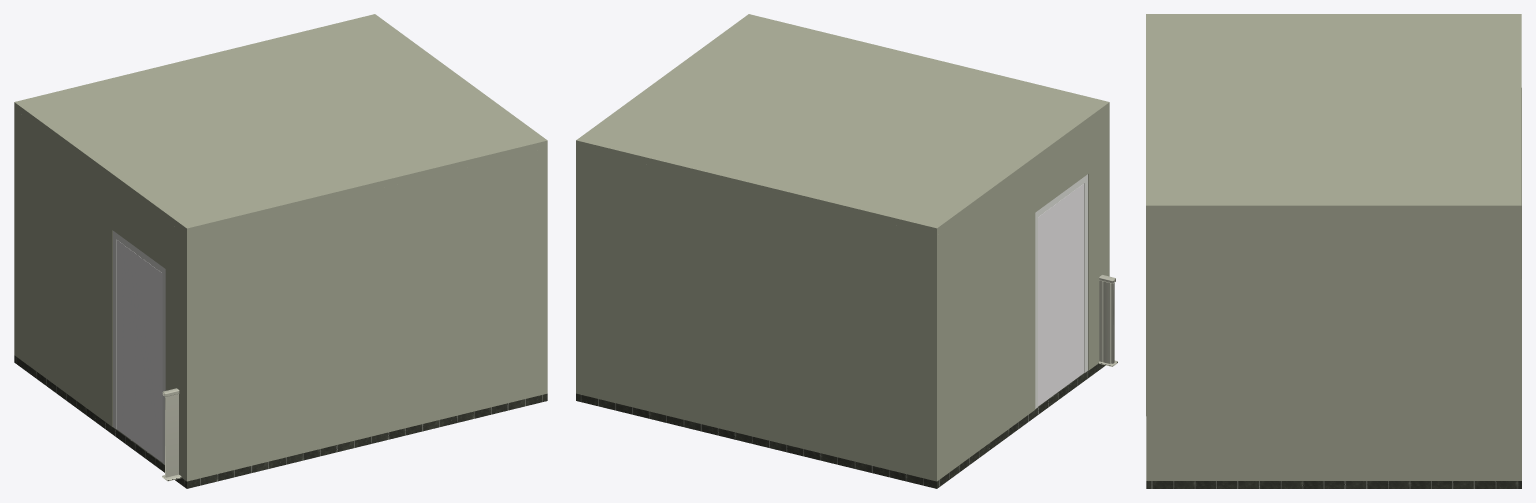
Rendered from FloorPlan427_physics.fbx.
The picture shows the model from 3 angles, left to right: view 1: azimuth 30°, elevation 25°; view 2: azimuth 150°, elevation 25°; view 3: azimuth 270°, elevation 25°; orthographic projection. The views are drawn at different scales.
Visible parts, largest first — view 1: FP427:Walls, FP427:Ceiling, FP427:polySurface178, FP427:Floor, FP427:polySurface180, FP427:FloorPlan426wall; view 2: FP427:Walls, FP427:Ceiling, FP427:polySurface178, FP427:Floor, FP427:polySurface180, FP427:FloorPlan426wall; view 3: FP427:Walls, FP427:Ceiling, FP427:Floor.
Boxes of the visible parts, x1,y1,x2,y2 form: FP427:Walls: (14, 110, 547, 481); FP427:Ceiling: (14, 14, 547, 235); FP427:polySurface178: (116, 240, 162, 462); FP427:Floor: (14, 355, 547, 488); FP427:polySurface180: (113, 231, 165, 464); FP427:FloorPlan426wall: (162, 388, 181, 481); FP427:Walls: (576, 110, 1109, 481); FP427:Ceiling: (576, 14, 1109, 235); FP427:polySurface178: (1038, 184, 1083, 406); FP427:Floor: (576, 363, 1105, 488); FP427:polySurface180: (1035, 174, 1087, 408); FP427:FloorPlan426wall: (1099, 275, 1117, 366); FP427:Walls: (1146, 88, 1521, 480); FP427:Ceiling: (1146, 14, 1521, 213); FP427:Floor: (1146, 481, 1521, 488).
Size of the model in its own units: 438 by 291 by 350.
